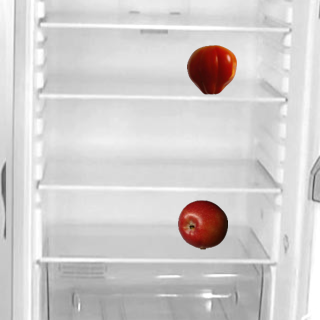Apple Braeburn: (177, 199, 227, 249)
Tomato 1: (186, 44, 236, 94)
